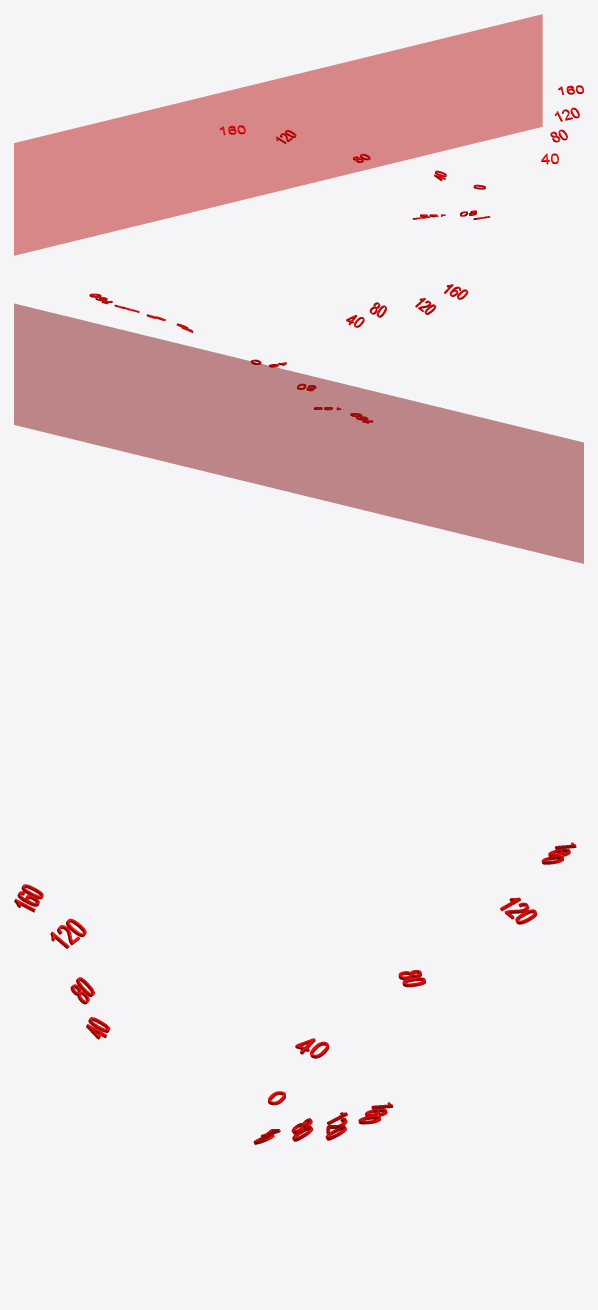
File: SaoJoseAusentes2a.gltf
3 views of the same model, one above another, from view 1: azimuth 30°, elevation 25°; view 2: azimuth 150°, elevation 25°; view 3: azimuth 270°, elevation 25° (orthographic). The views are drawn at different scales.
Visible parts, largest first — view 1: root; view 2: root; view 3: no part large enough to name.
Part boxes in pixels (x1,y1,x2,y2): root: (14,14,542,255); root: (14,303,583,563).
Bounding box in the file's own units: 1992 × 406 × 980.
